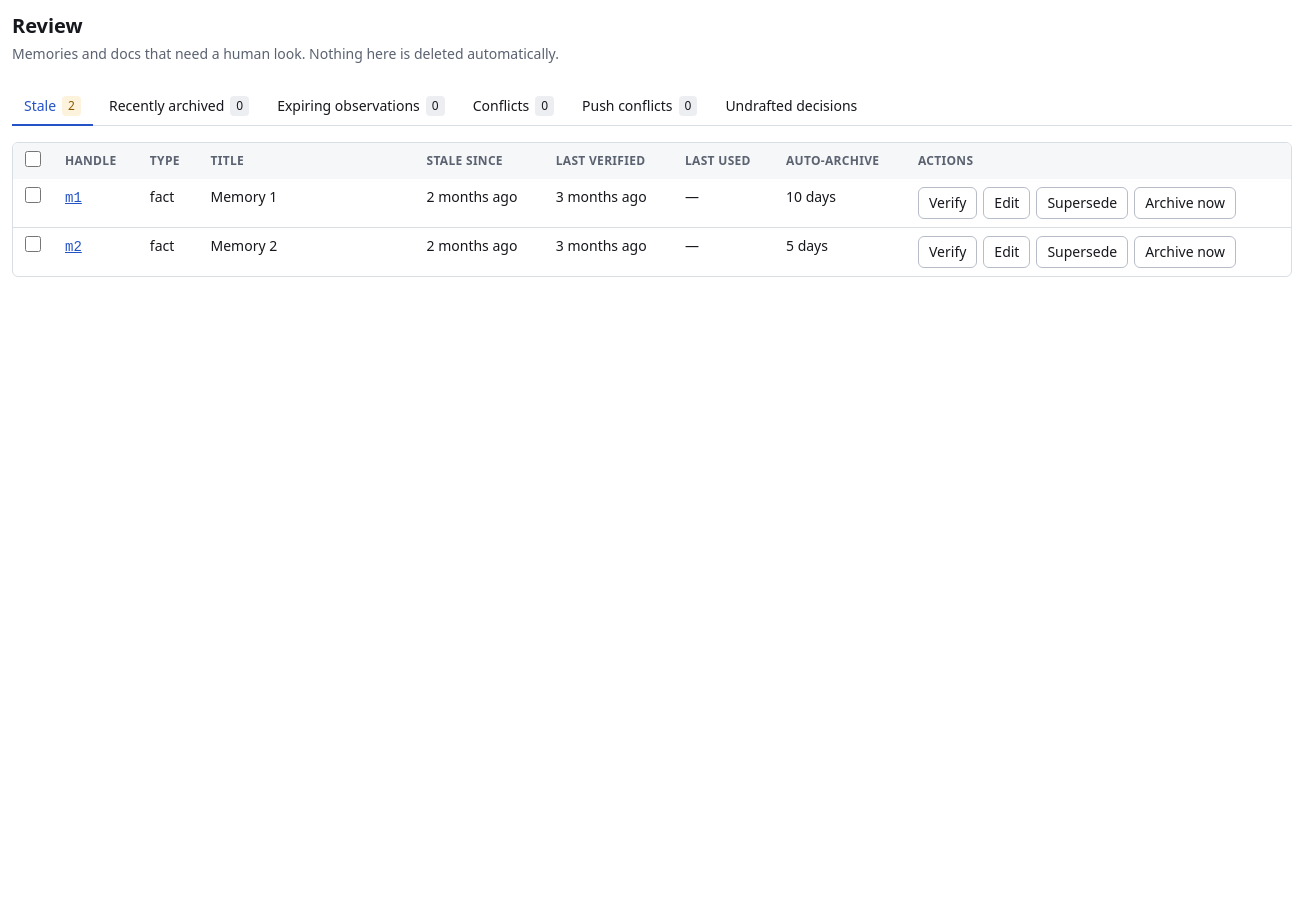
it: ReviewPage › words the read_only_space and wrong_space skips
The image size is (1292, 912).
Click the checkbox named "Select m1" at (33, 195), box [25, 187, 41, 203]
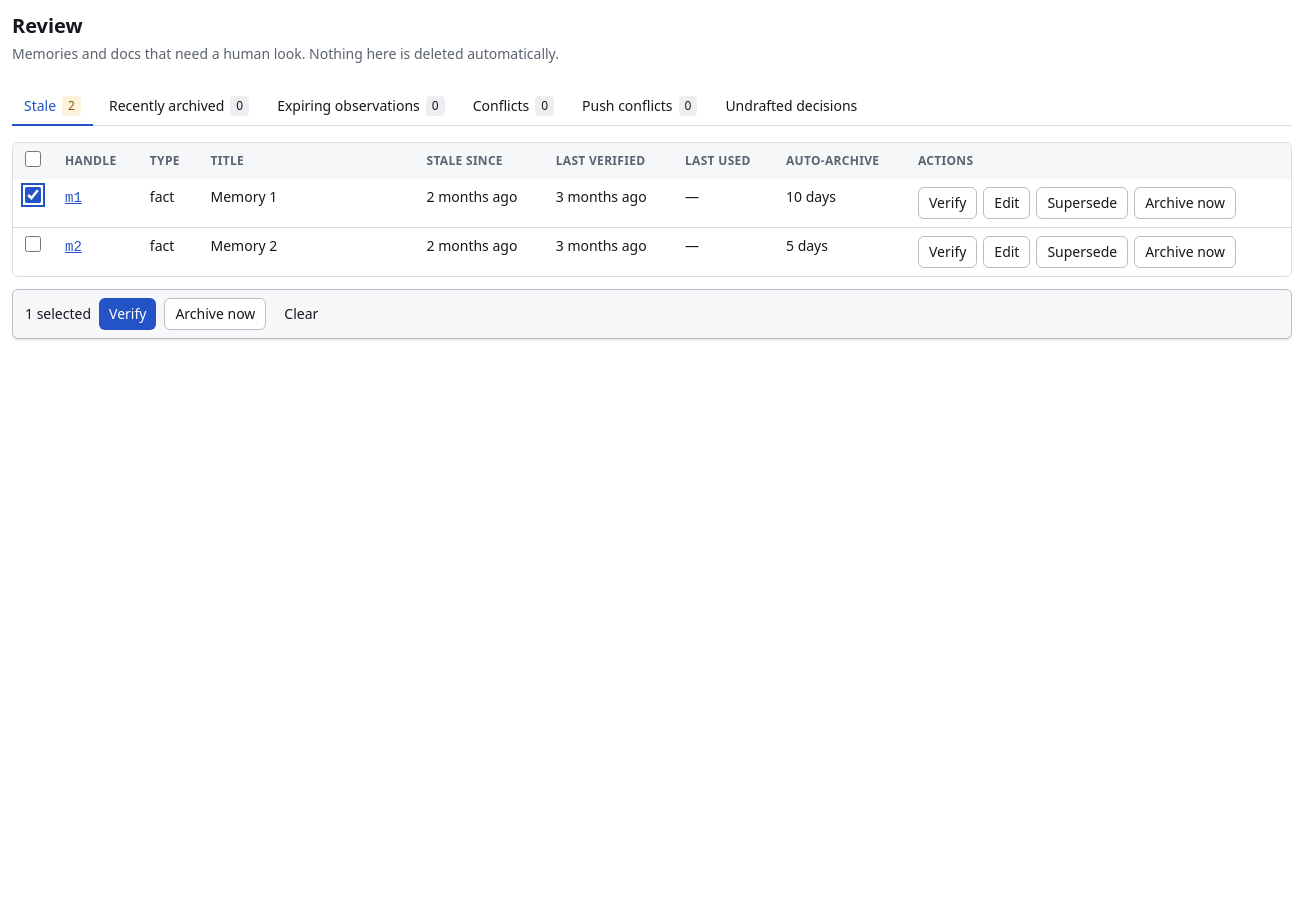
Click the checkbox named "Select m2" at (33, 244), box [25, 236, 41, 252]
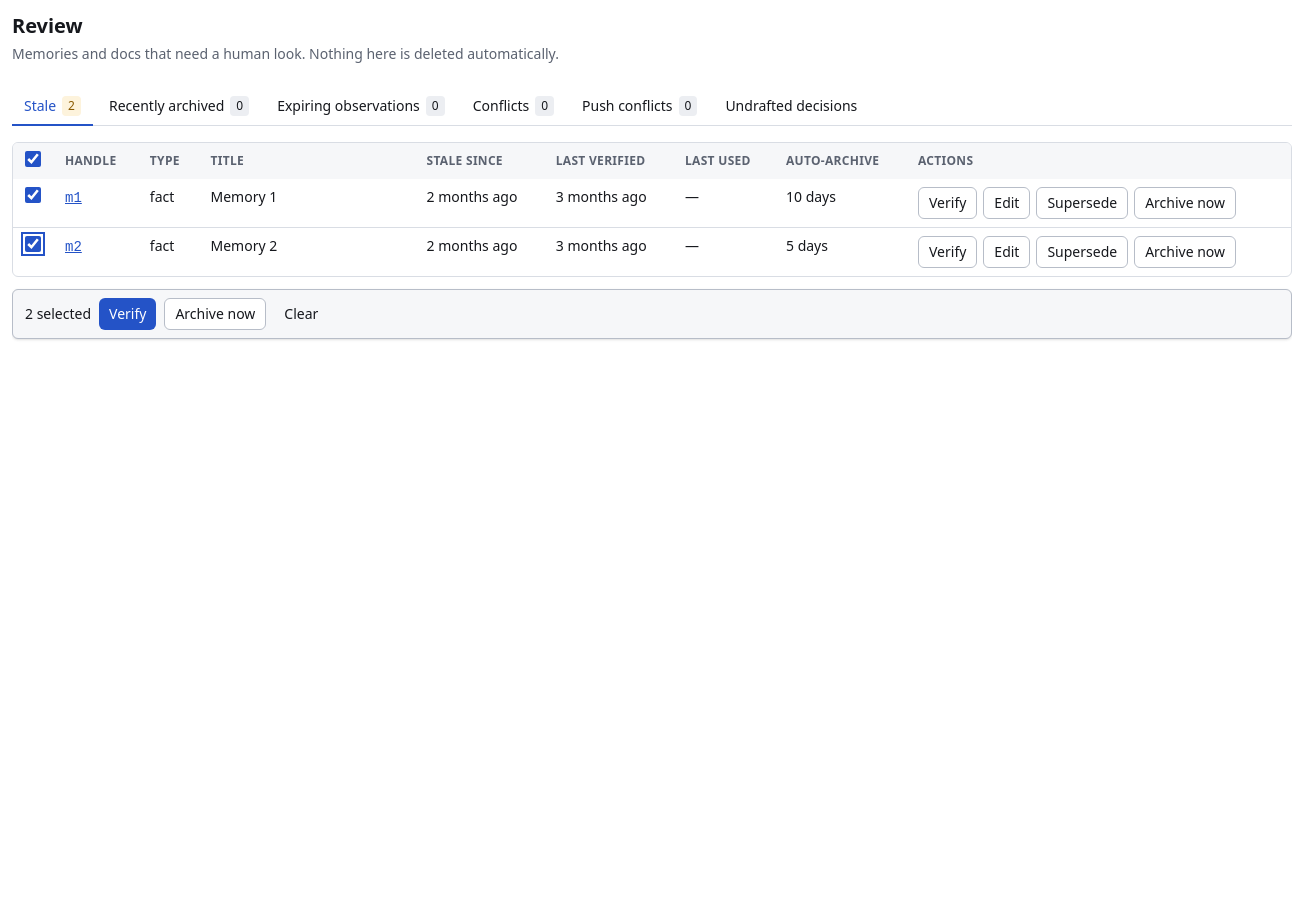
Click the button "Verify" next to "selected" at (128, 314), box [99, 298, 156, 330]
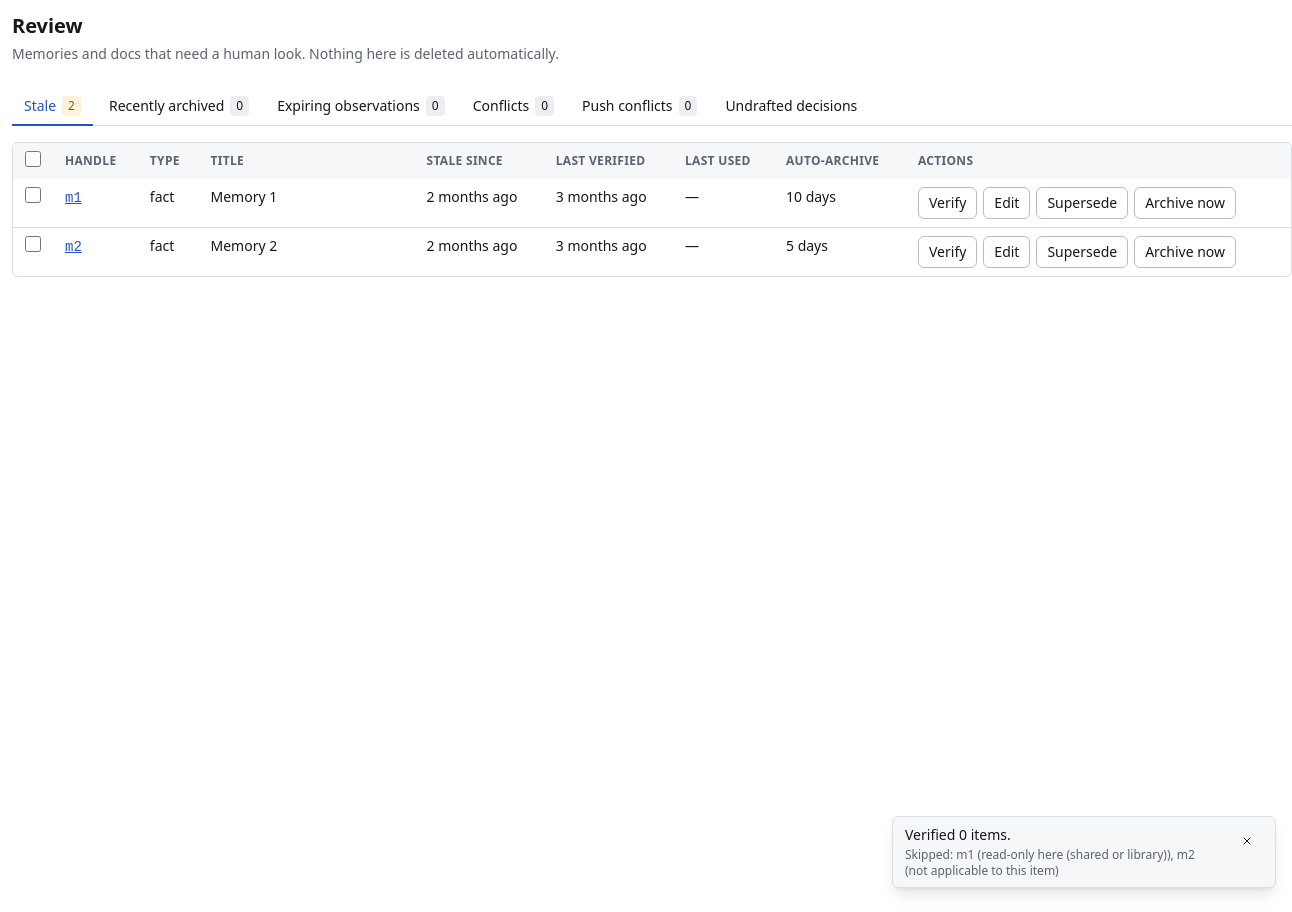
expect the text "m2 (not applicable to this item" is shown: met, box [905, 846, 1195, 879]
